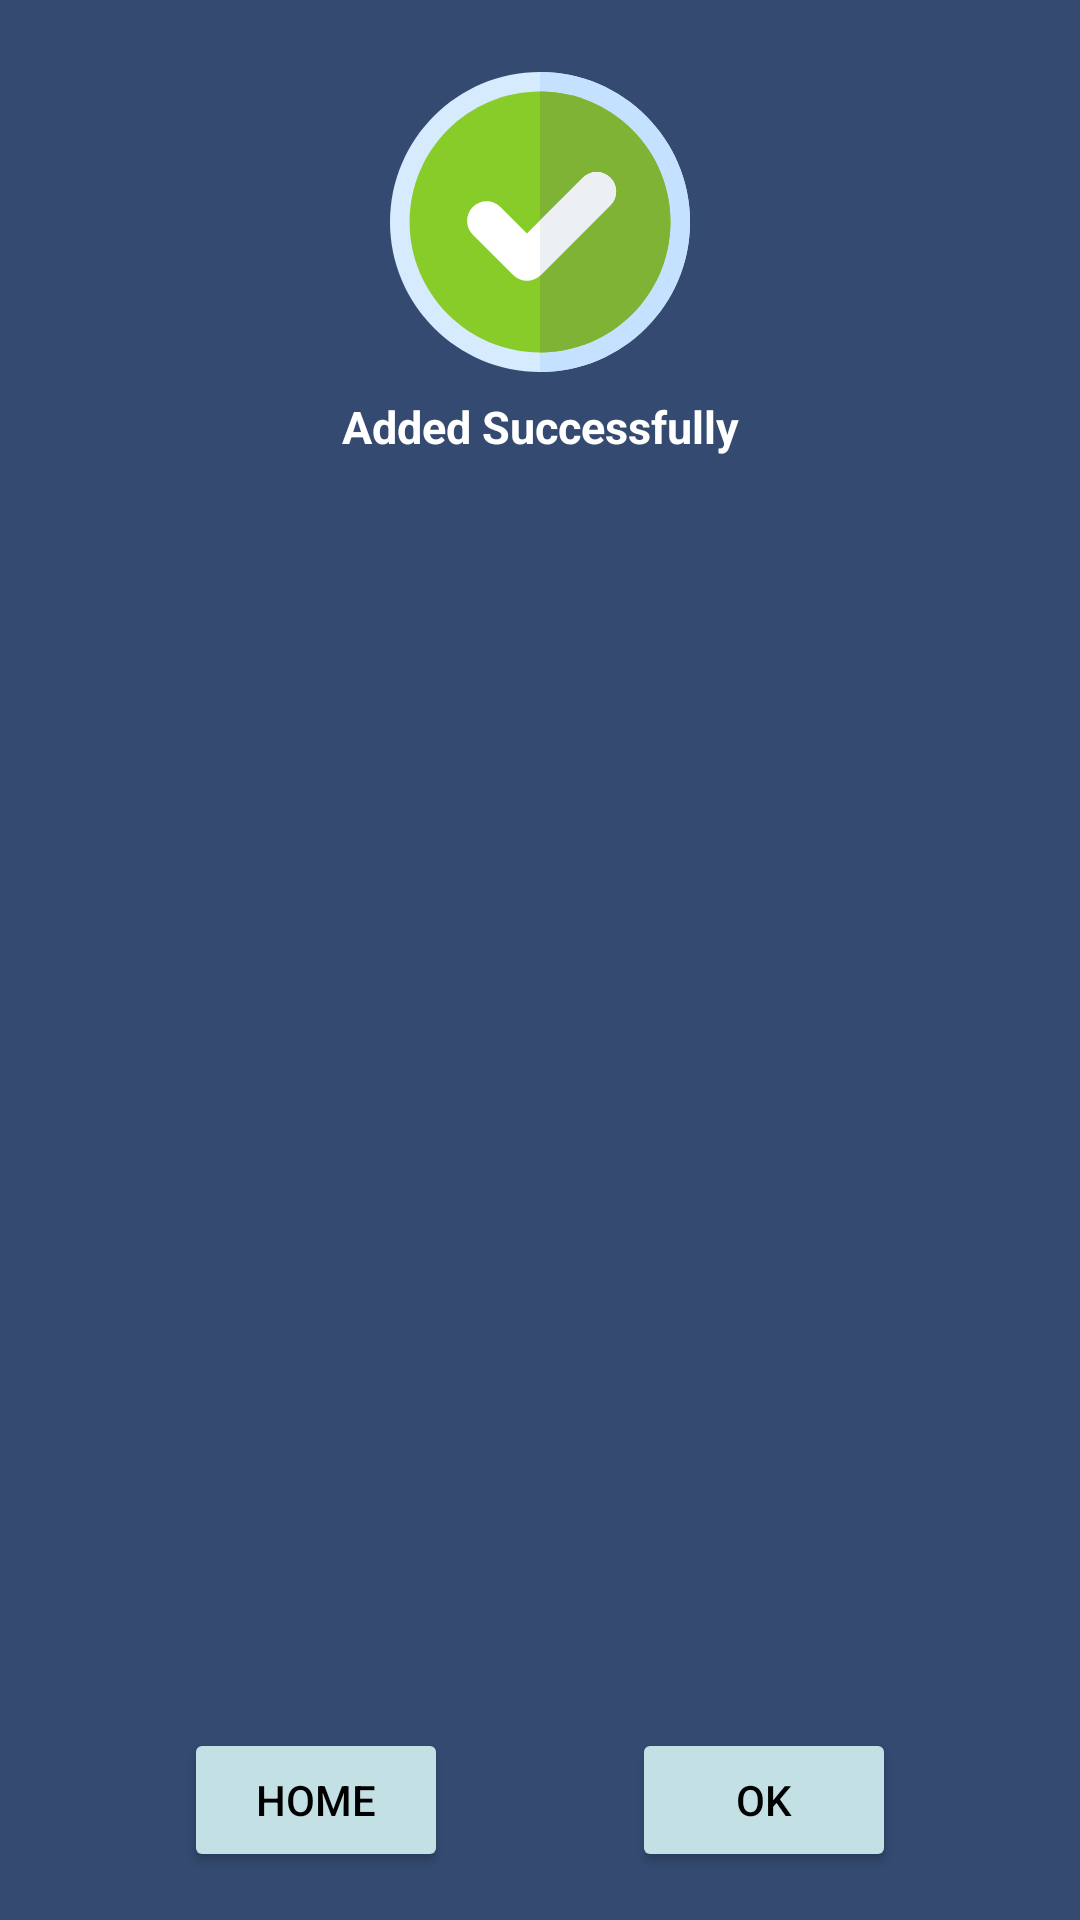

Screen size 1080px x 1920px. Icon name, then its center in pixels as (x,y):
Tick Mark: (540,222)
